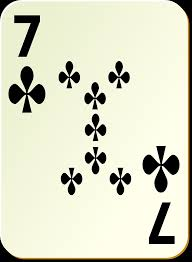seven of clubs: (2, 2, 187, 258)
